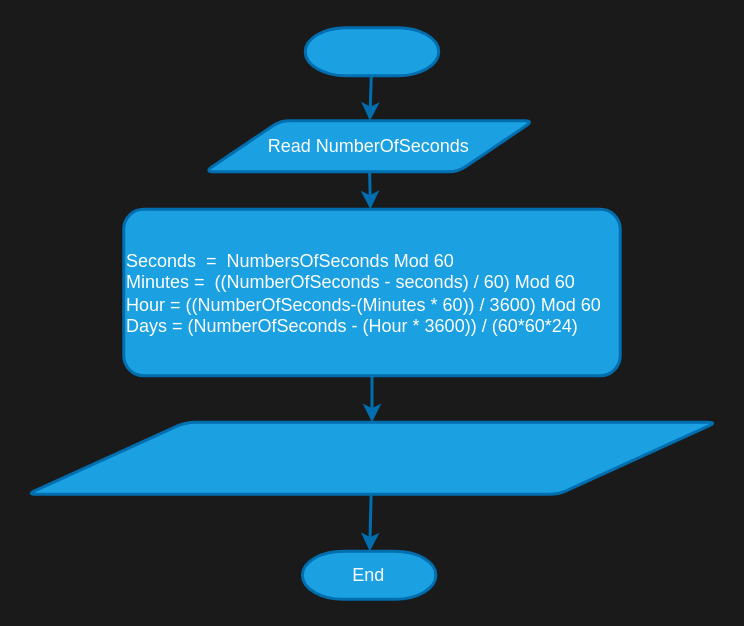
This 744x626 diagram has some shape labels left out. Here are the shapes that lost their labels. From the top down, the centre of each, then its label:
the point at 371,51: Start
the point at 371,457: Print Days + " : " + Hours + " : " + Minutes + " : " + Seconds
